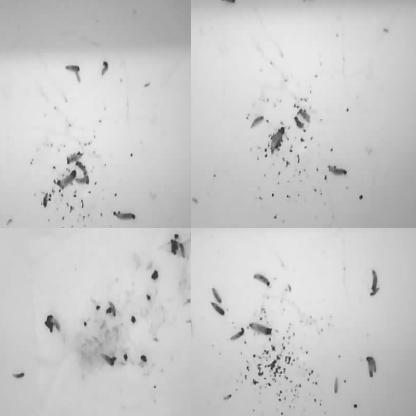PtecticusTenebrifer: (55, 168, 76, 187), (271, 129, 283, 153), (328, 162, 347, 176), (116, 211, 138, 222), (254, 272, 270, 287), (50, 316, 63, 334), (249, 324, 272, 334), (228, 328, 245, 341), (250, 114, 264, 129), (212, 302, 226, 316), (65, 62, 81, 72), (109, 299, 117, 319), (212, 286, 222, 302), (372, 268, 378, 292), (101, 61, 109, 78), (154, 0, 172, 7), (353, 0, 371, 7), (263, 228, 275, 237), (12, 372, 26, 379), (136, 0, 152, 6), (384, 0, 401, 5), (220, 0, 237, 5), (306, 0, 318, 7), (214, 228, 230, 233), (161, 228, 167, 240), (0, 343, 5, 357), (0, 306, 4, 323), (191, 0, 198, 9), (185, 228, 190, 240), (169, 228, 186, 231), (191, 315, 193, 340), (281, 228, 294, 231)
